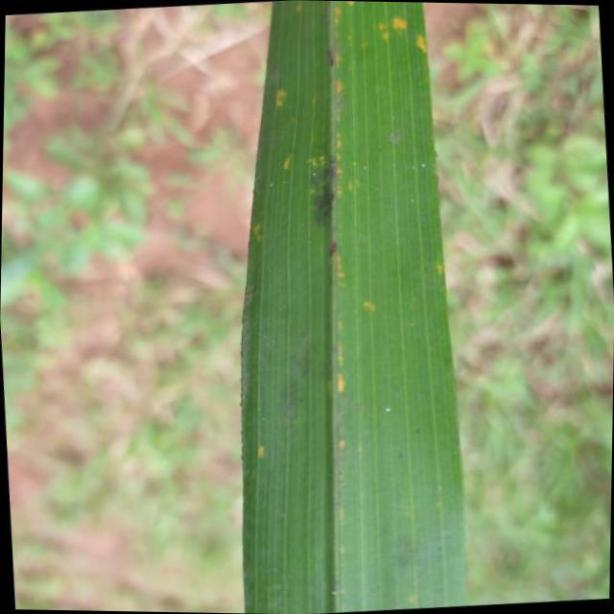Kalium: (242, 7, 460, 614)
